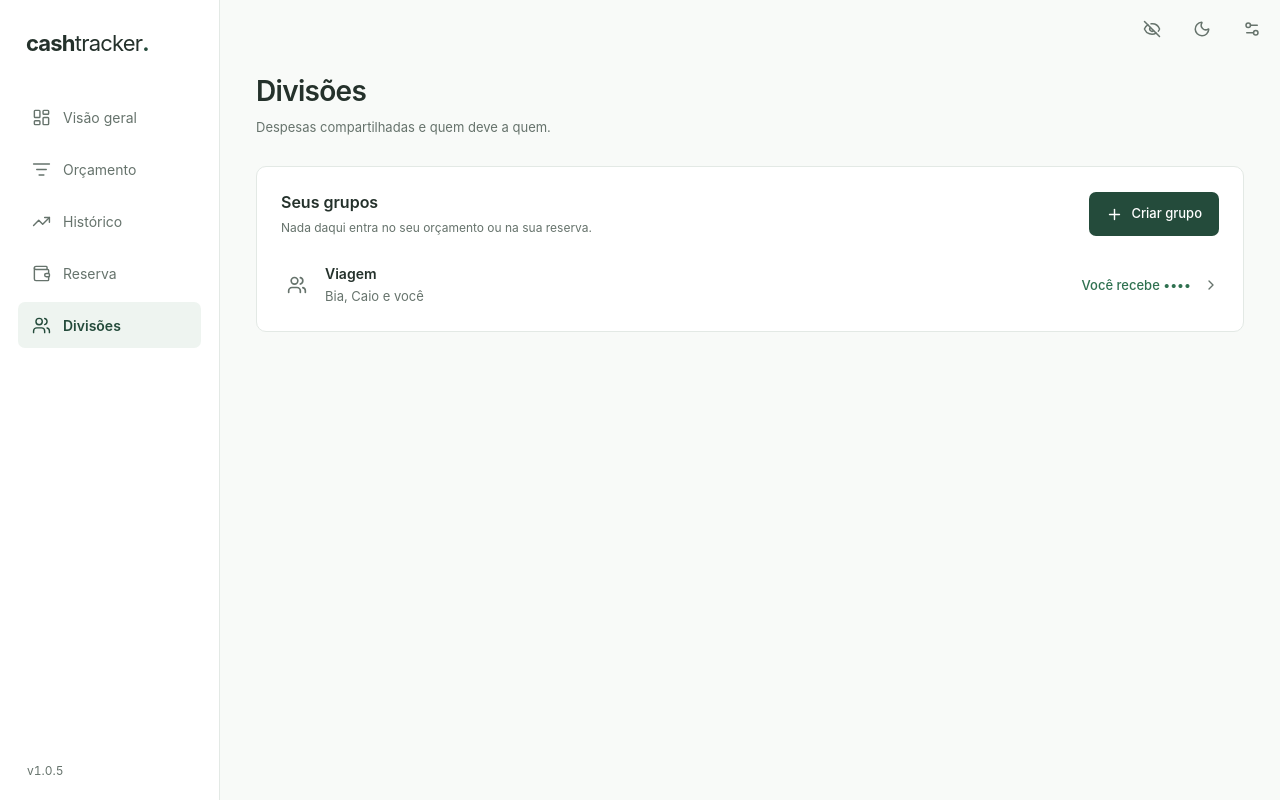
Scenario: Divisões › oculta os valores com o olho fechado, mantendo nomes e ações
Click the link "Viagem Bia, Caio e você Você recebe ••••" at (351, 274), box [281,245,1219,307]
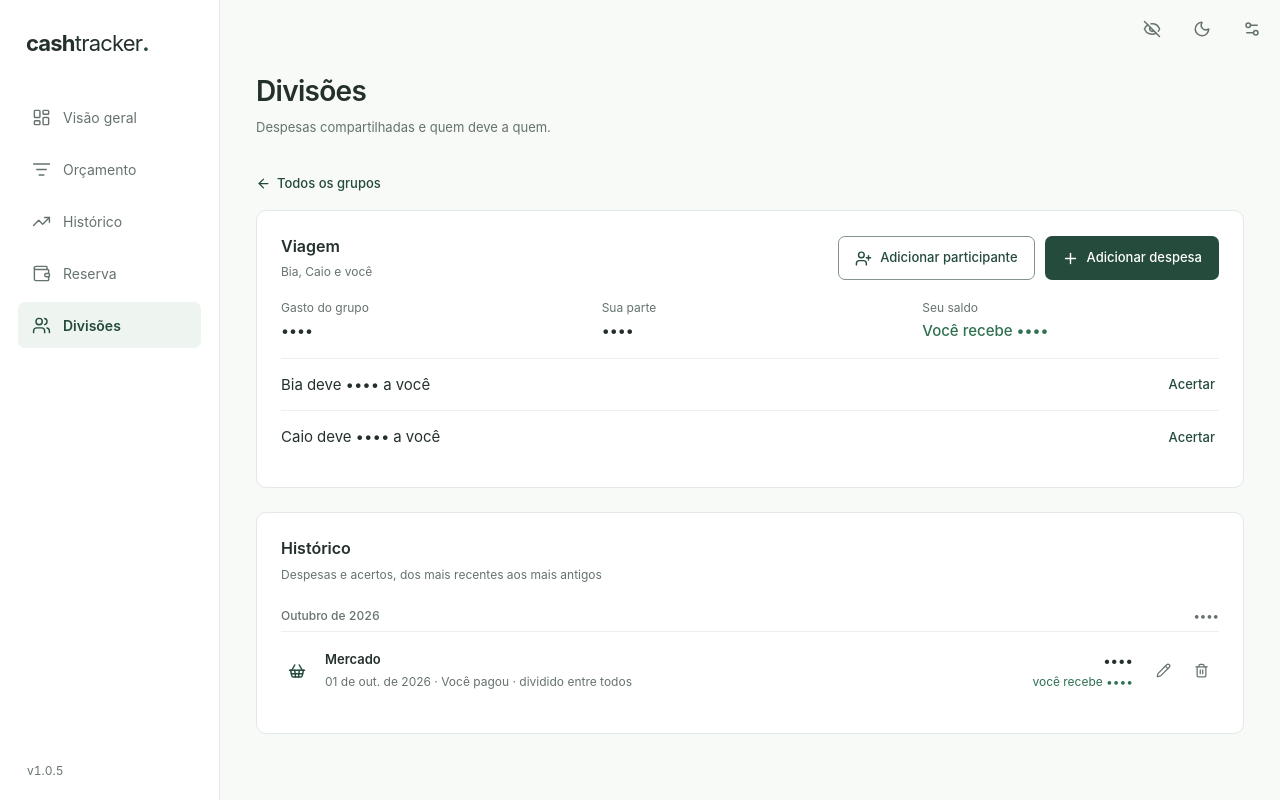
Expected: the list named "Quem deve a quem" shows "Bia deve •••• a você", [281,375,430,394]
Click the button with aria-label "Acertar: Bia deve •••• a você" at (1192, 385), box [1165,363,1219,407]
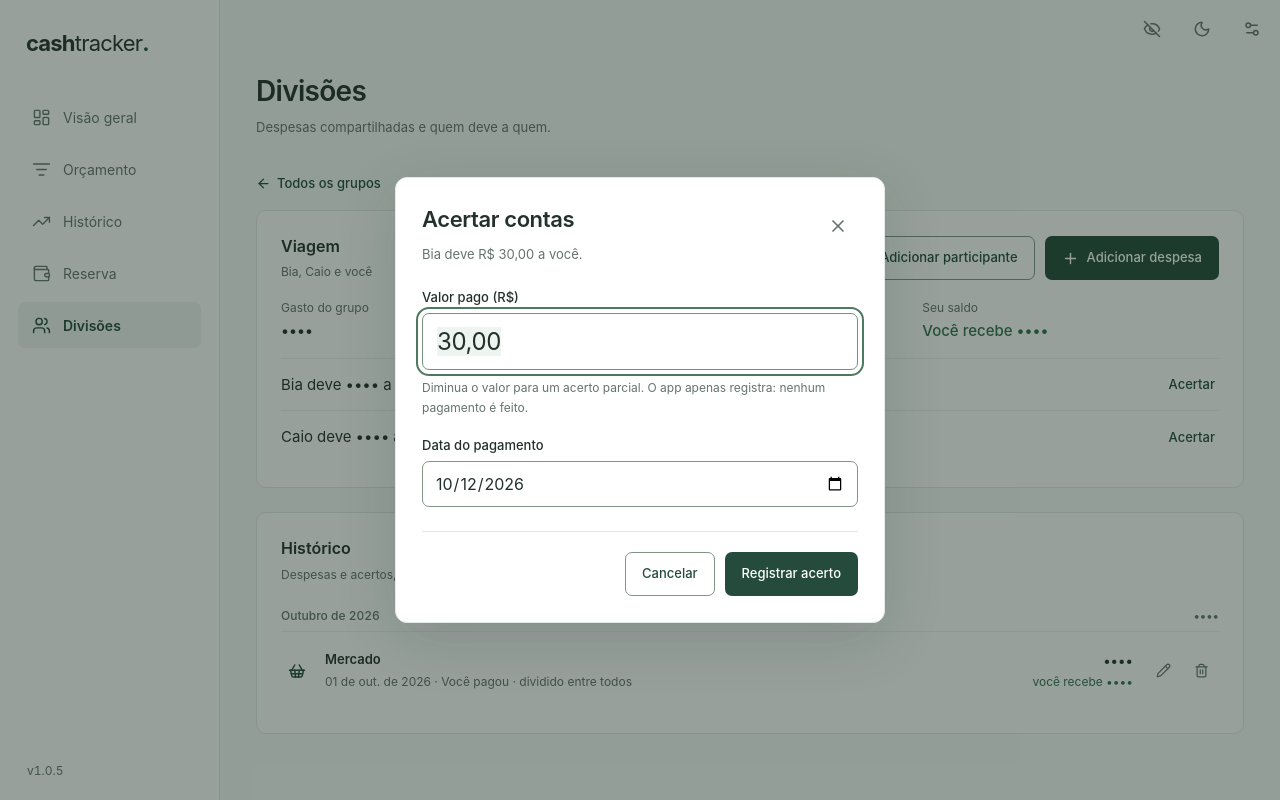
Expected: the field labelled "Valor pago (R$)" holds "30,00", [422,313,858,370]
